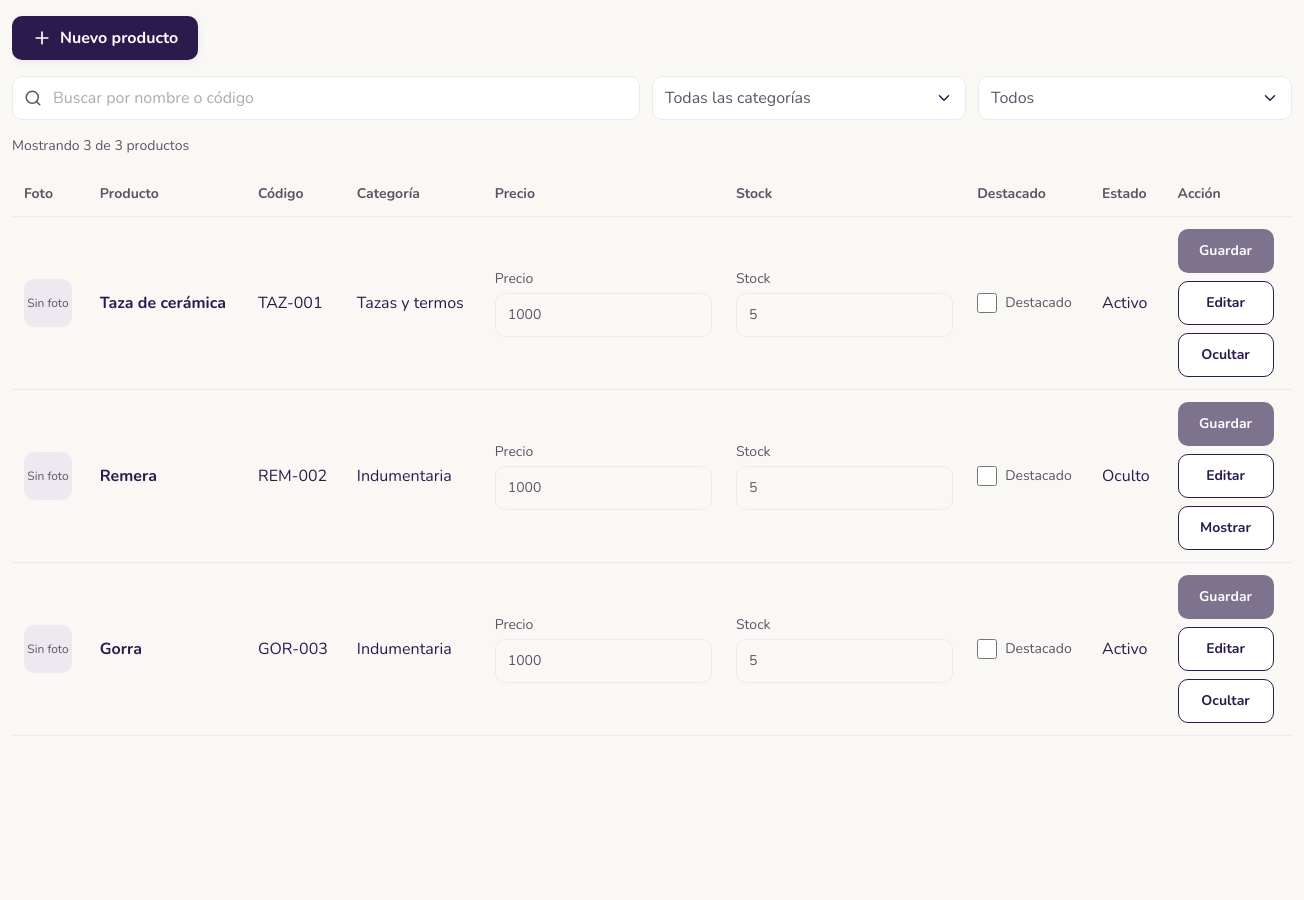
Test: GestionProductos › busca por nombre sin importar tildes ni mayúsculas
The image size is (1304, 900).
Type "CERAMICA" into the search field labelled "Buscar por nombre o código".
click(326, 98); type("CERAMICA")  # box x1=12 y1=76 x2=640 y2=120
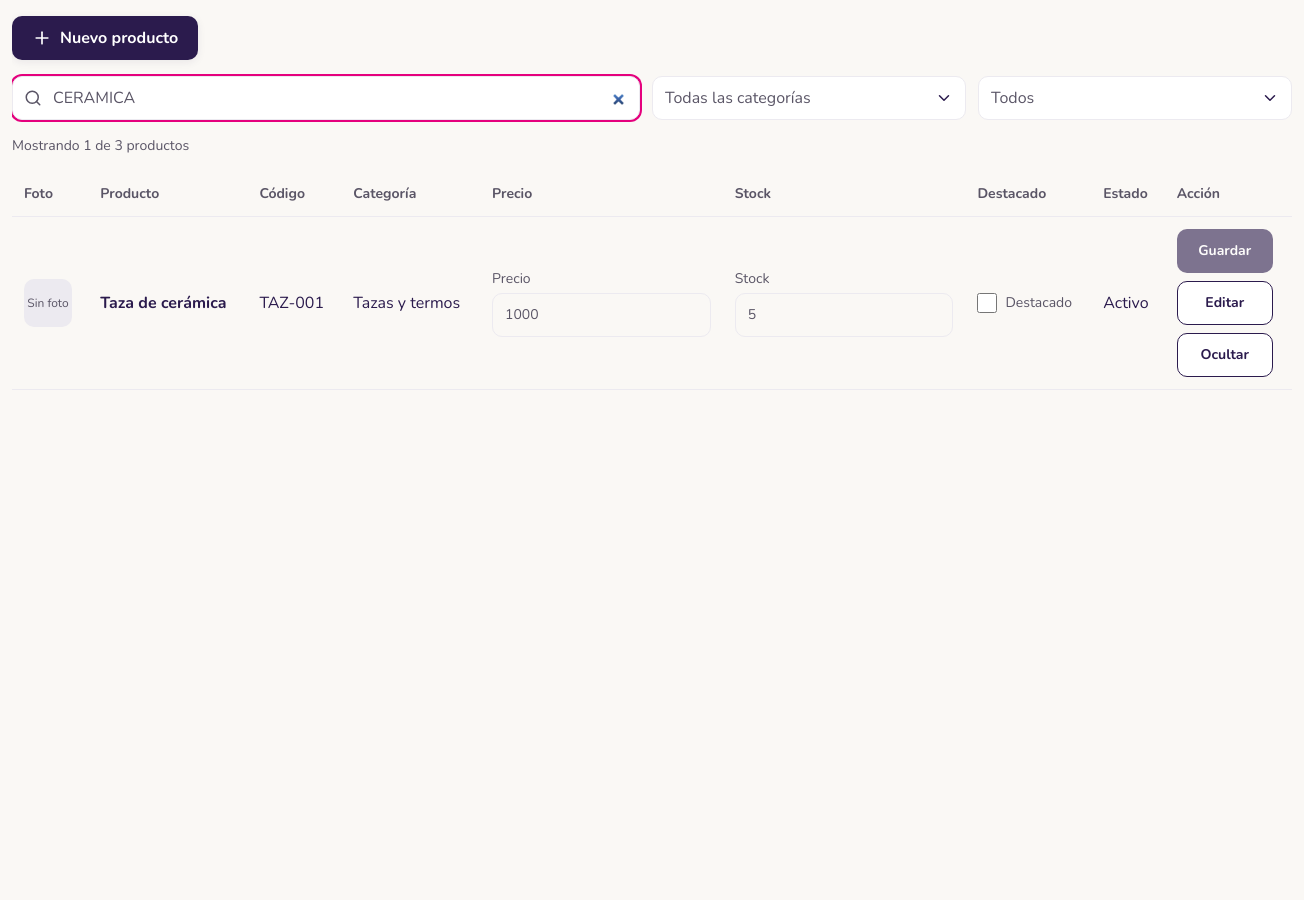
expect the column heading "Taza de cerámica" is shown: met, box x1=88 y1=216 x2=247 y2=390
expect the column heading "Gorra" is gone: met
expect the text "Mostrando 1 de 3 productos" is shown: met, box x1=12 y1=136 x2=189 y2=155
